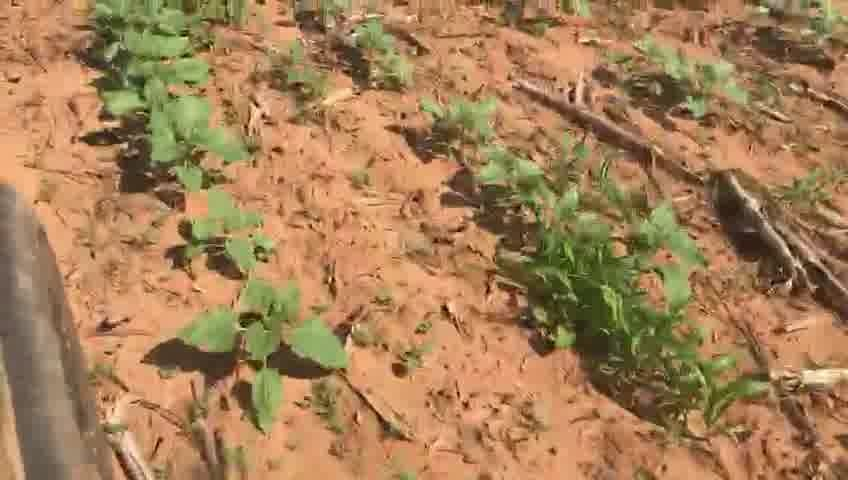sunflower: (167, 279, 355, 433), (575, 173, 709, 324), (124, 91, 248, 196), (621, 34, 750, 131), (176, 190, 281, 279), (95, 56, 214, 124), (414, 85, 497, 146), (90, 9, 192, 58), (475, 144, 549, 206), (339, 15, 398, 62)
